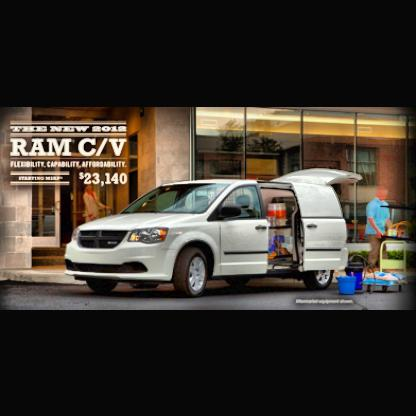Ram C-V Cargo Van Minivan 2012: (69, 168, 362, 294)
